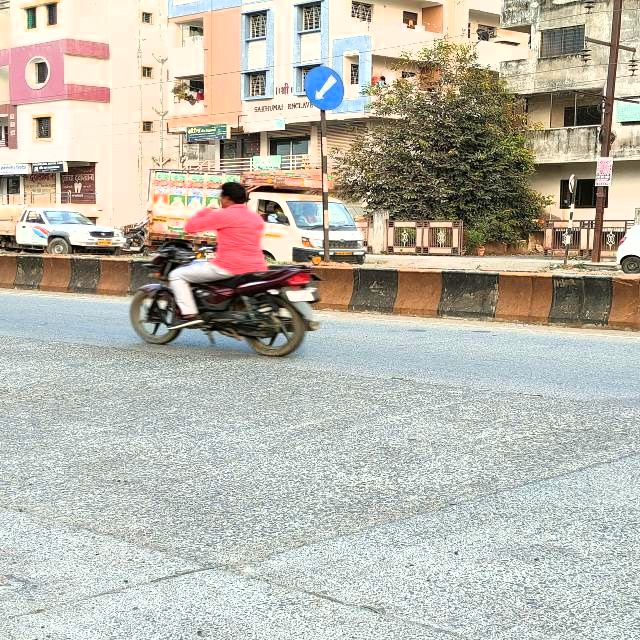R.301e: (301, 62, 353, 115)
